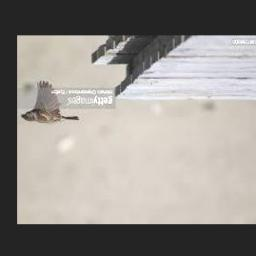Sparrow: (21, 81, 80, 122)
